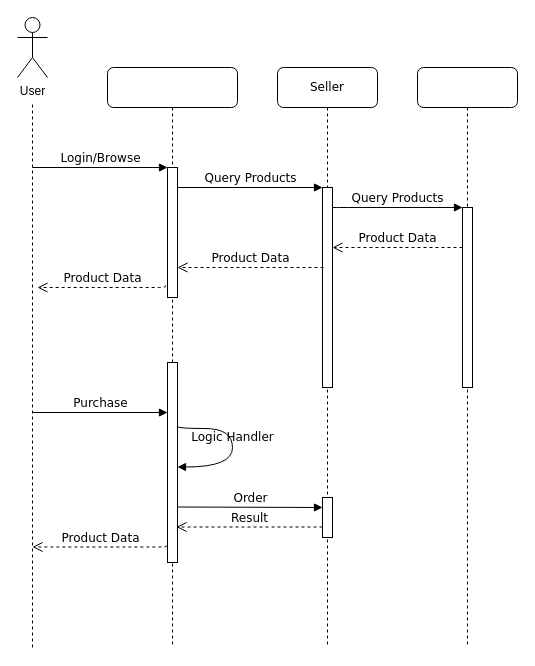
The diagram is 535 pixels wide and 666 high, and some of its shapes have lost their labels. The shapes that lost their labels are listed below. From the top down, each one's centre as x and y in pixels, then its label:
At point (172, 357): "Third-party Payment Company".
At point (467, 357): "Manager".
